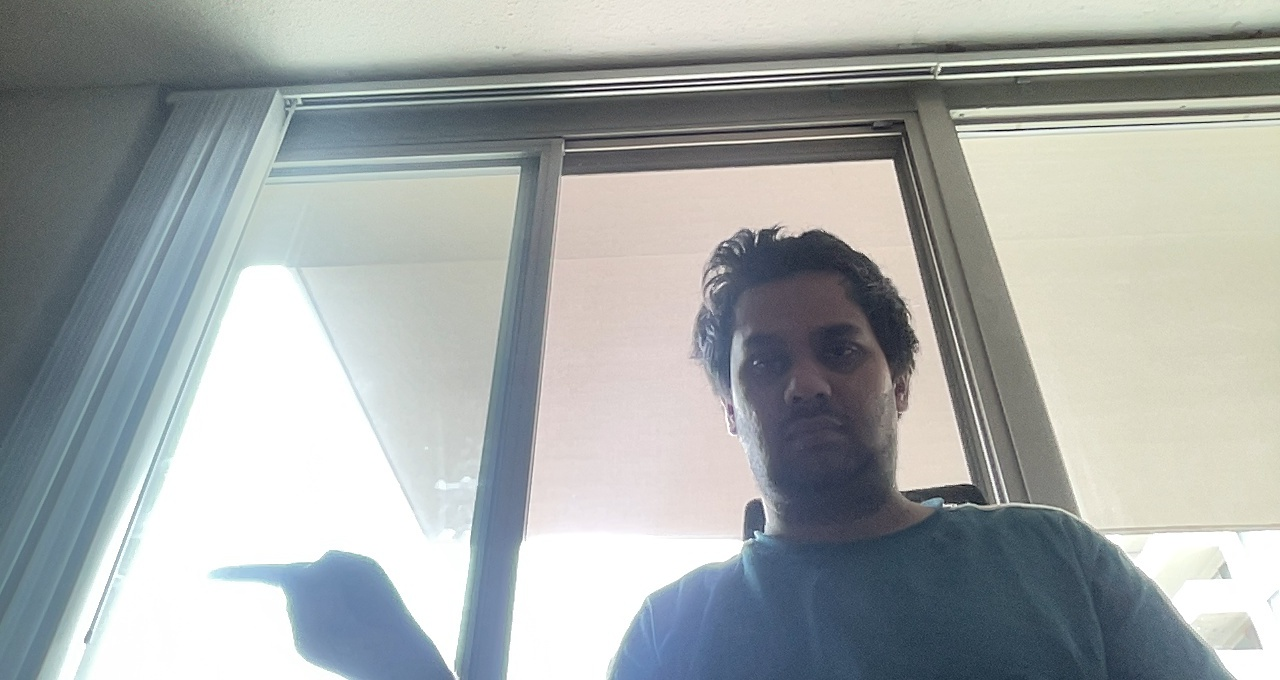fingerright: (198, 547, 445, 670)
